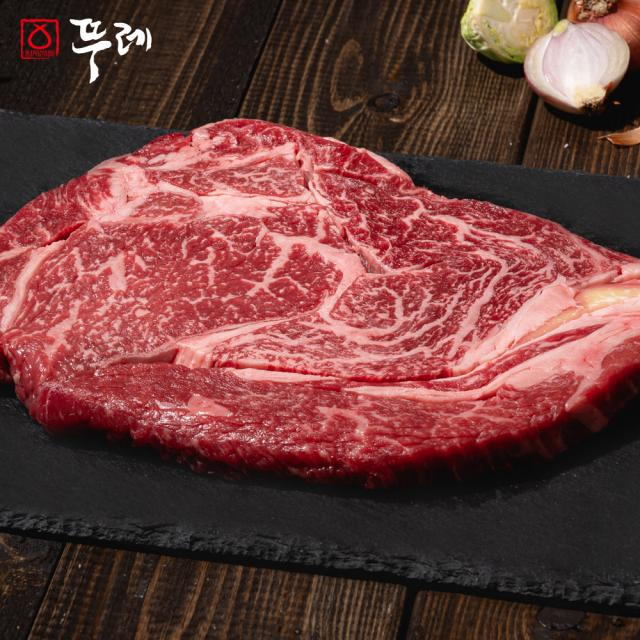beef: (46, 193, 514, 396)
